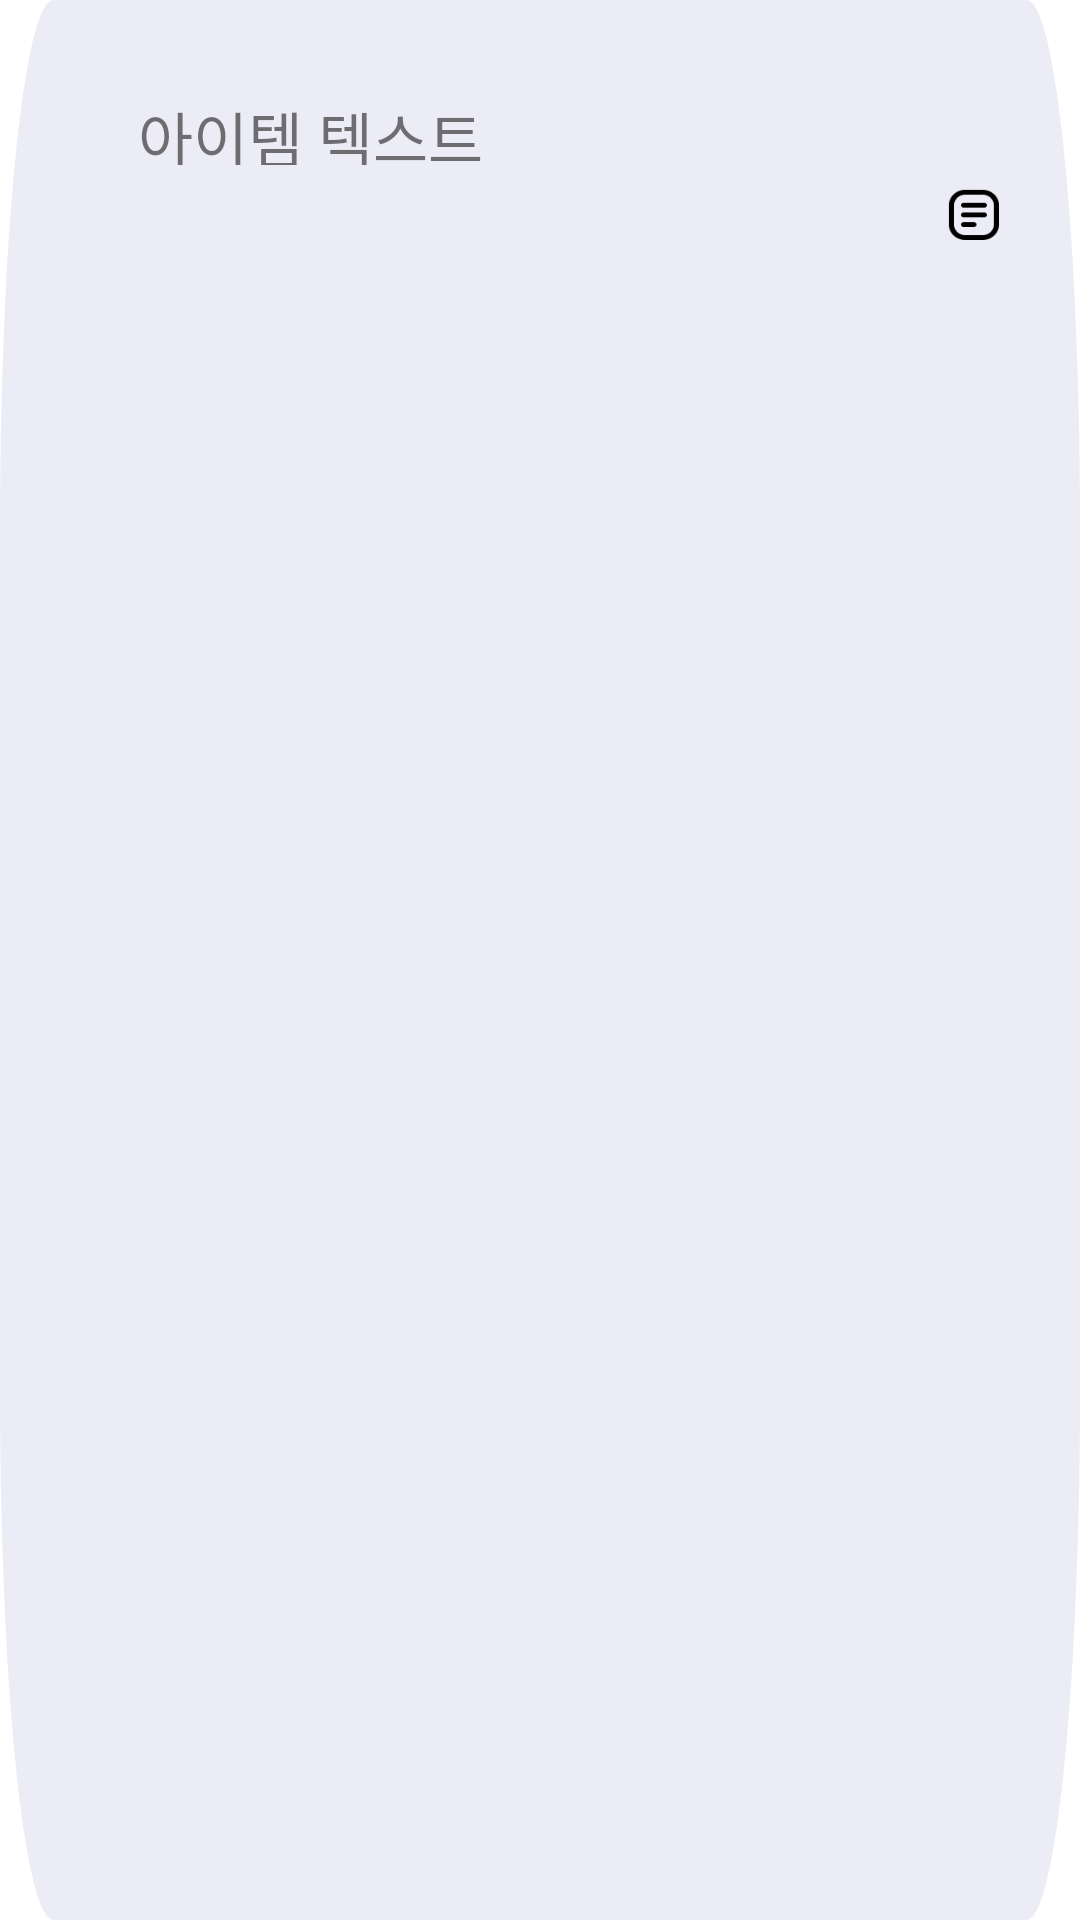

Point at icon controls on the screen. Image size 1080px×1920px, points as (x,y).
listicon: (974,214)
